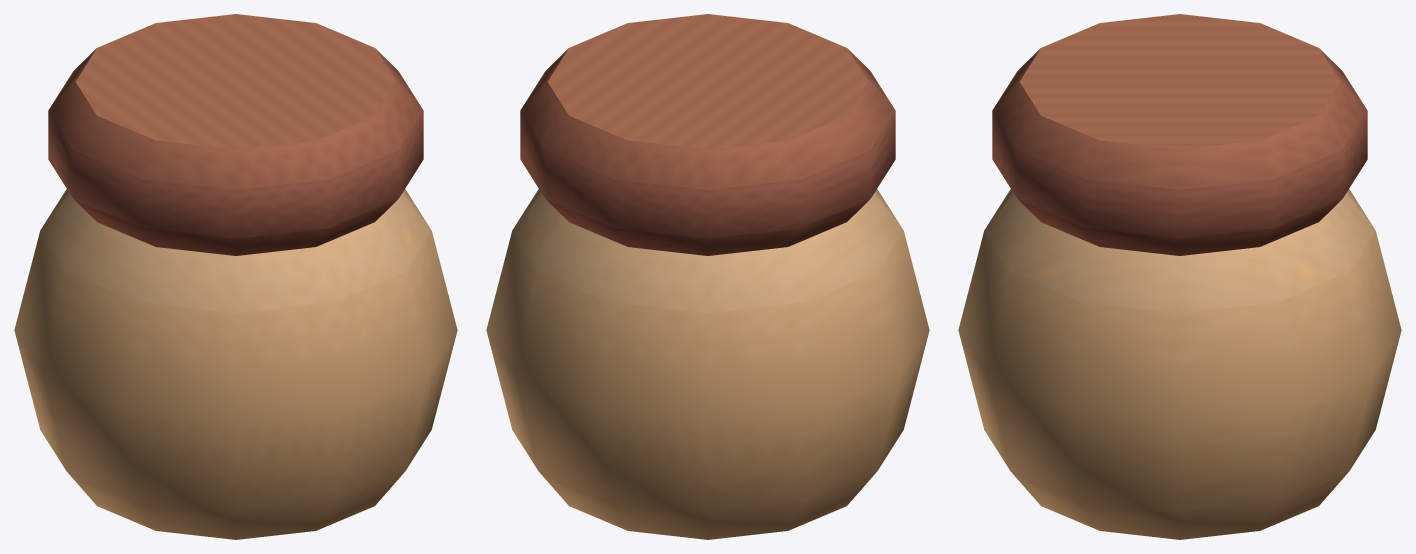
File: jar_C_small.gltf
3 renders of one model, left to right at view 1: azimuth 30°, elevation 25°; view 2: azimuth 150°, elevation 25°; view 3: azimuth 270°, elevation 25°, orthographic.
Parts seen in each view (by area): view 1: jar_C_small; view 2: jar_C_small; view 3: jar_C_small.
Part boxes in pixels (<box>): jar_C_small: <box>14,14,457,539</box>; jar_C_small: <box>486,14,929,539</box>; jar_C_small: <box>958,14,1401,539</box>.
Bounding box in the file's own units: 0.566 × 0.55 × 0.566.
1 material, 1 textured.
